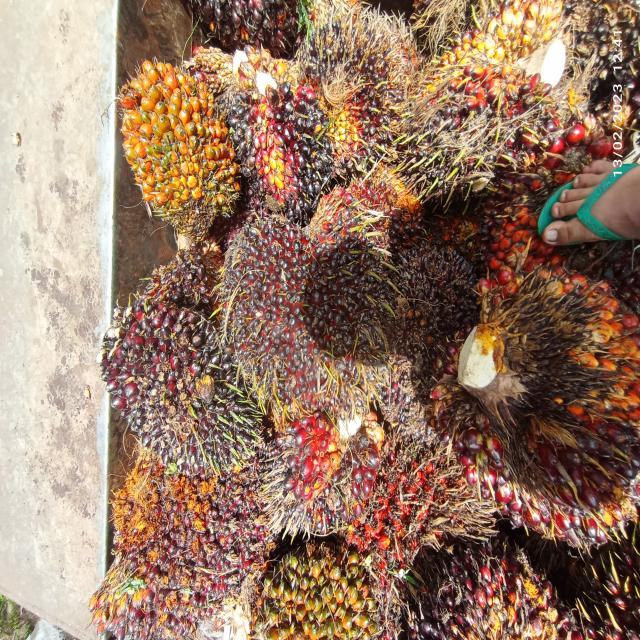fraksi 00: (380, 210, 484, 386), (217, 50, 331, 208), (297, 2, 396, 178)
fraksi 1: (78, 260, 286, 480), (390, 0, 588, 194), (215, 212, 386, 420), (100, 474, 263, 640), (257, 378, 383, 549)
fraksi 3: (436, 244, 640, 549)
fraksi 4: (105, 55, 241, 259), (352, 414, 472, 597)
